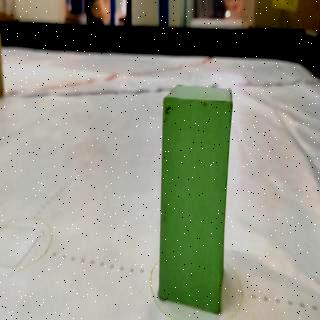greenbox: (156, 82, 234, 320)
